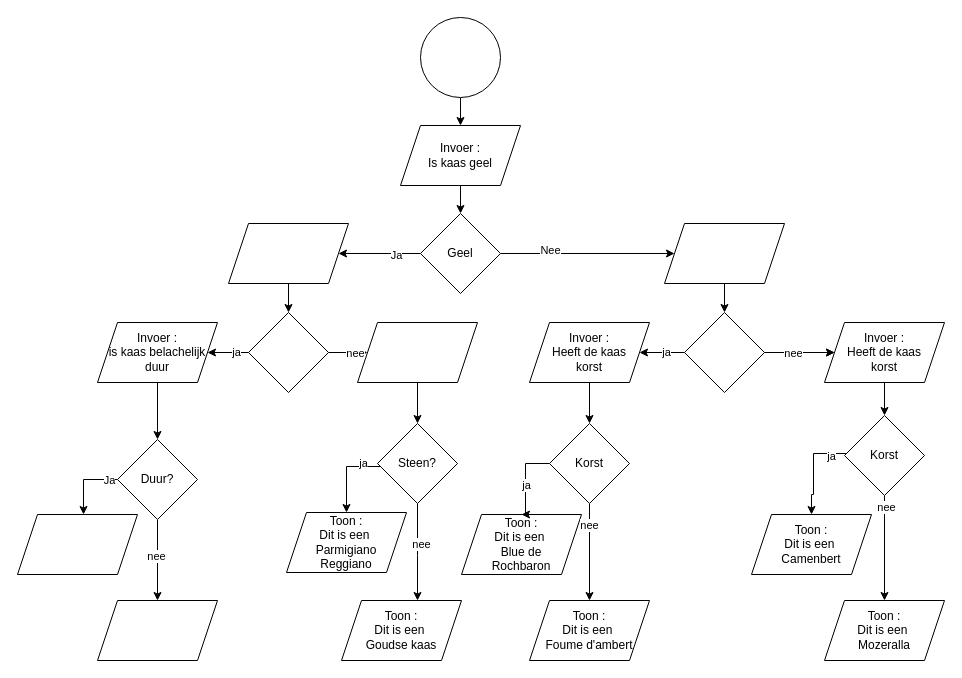
Image size: 962x678. Some labels were removed from this diagram. Here are the shapes that lost their labels. From the top down, the box of each, then its label:
(420, 16, 500, 98): Begin
(228, 222, 348, 284): Invoer : Zitten er gaten in
(664, 222, 784, 284): Invoer : Heeft de kaas Blauwe schimmel
(248, 312, 328, 392): Gaten?
(356, 322, 478, 382): Invoer : Is kaas hard als steen
(684, 312, 764, 392): Schimmel?
(16, 514, 138, 574): Toon : Dit is een emmentaler
(96, 600, 218, 660): Toon : Dit is een Leerdammer
